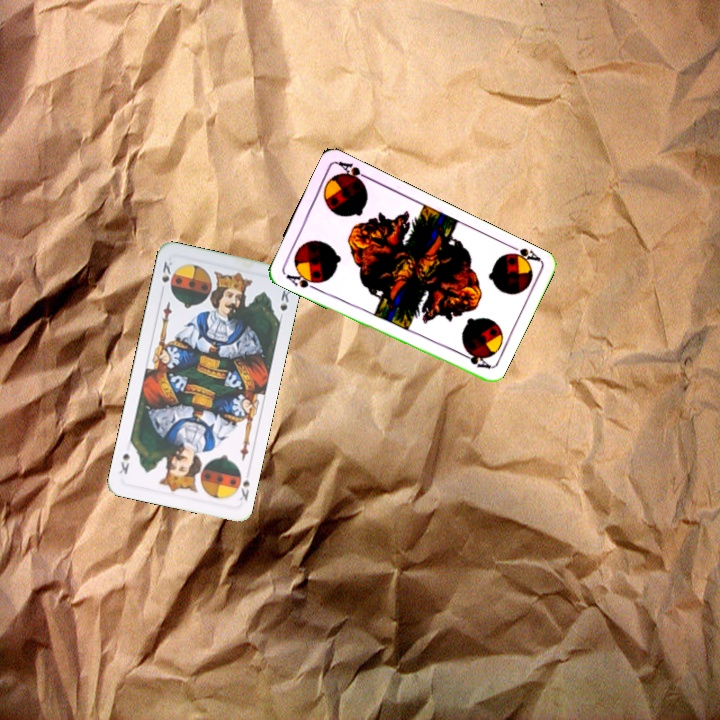SA: (501, 240, 543, 268), (280, 268, 321, 292)
SK: (232, 466, 252, 503), (157, 257, 175, 285)
